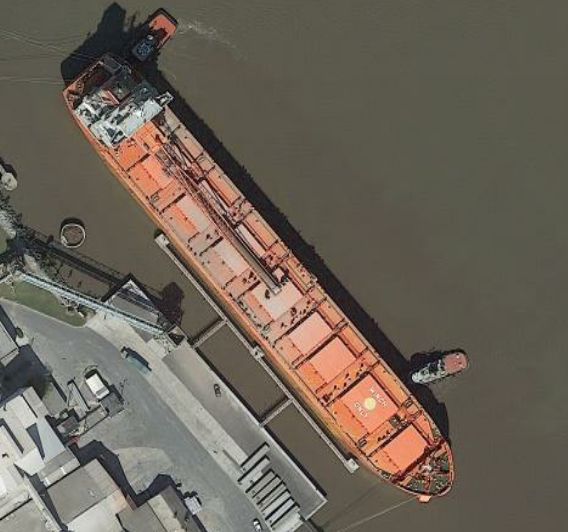boat: (60, 52, 456, 500), (403, 343, 471, 391)
